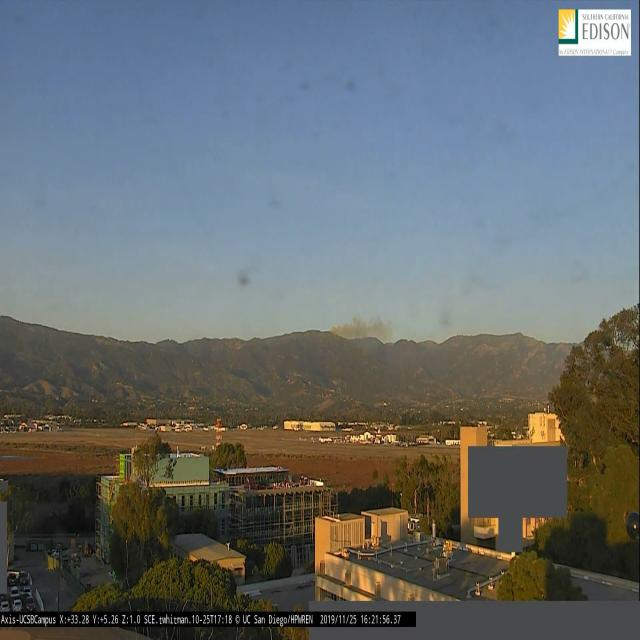smoke: (330, 312, 396, 348)
